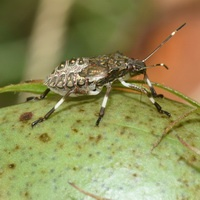insect: (31, 23, 185, 126)
